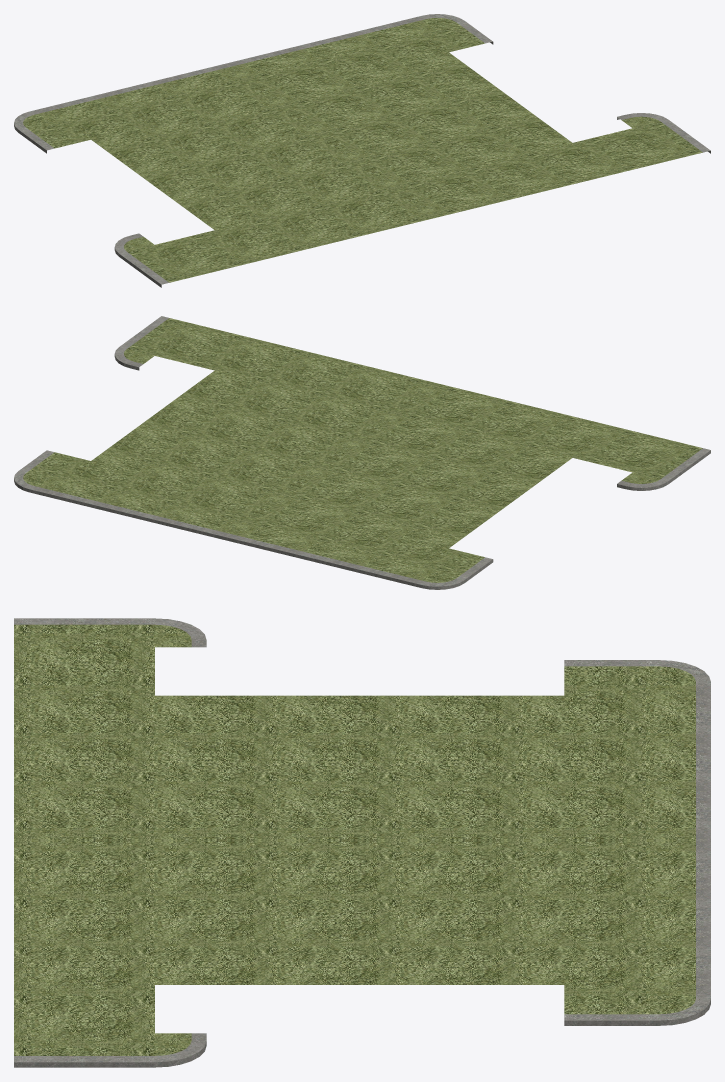
Rendered from vgehseland07.obj.
3 renders of one model, top to bottom at view 1: azimuth 30°, elevation 25°; view 2: azimuth 150°, elevation 25°; view 3: azimuth 270°, elevation 25°, orthographic. The views are drawn at different scales.
Parts seen in each view (by area): view 1: vgEhseland07; view 2: vgEhseland07; view 3: vgEhseland07.
Part boxes in pixels (left/top/right/bottom): vgEhseland07: left=14, top=14, right=710, bottom=287; vgEhseland07: left=14, top=316, right=710, bottom=589; vgEhseland07: left=14, top=618, right=710, bottom=1067.
Size of the model in its own units: 35.79 by 0.2 by 23.75.
2 materials, 2 textured.
